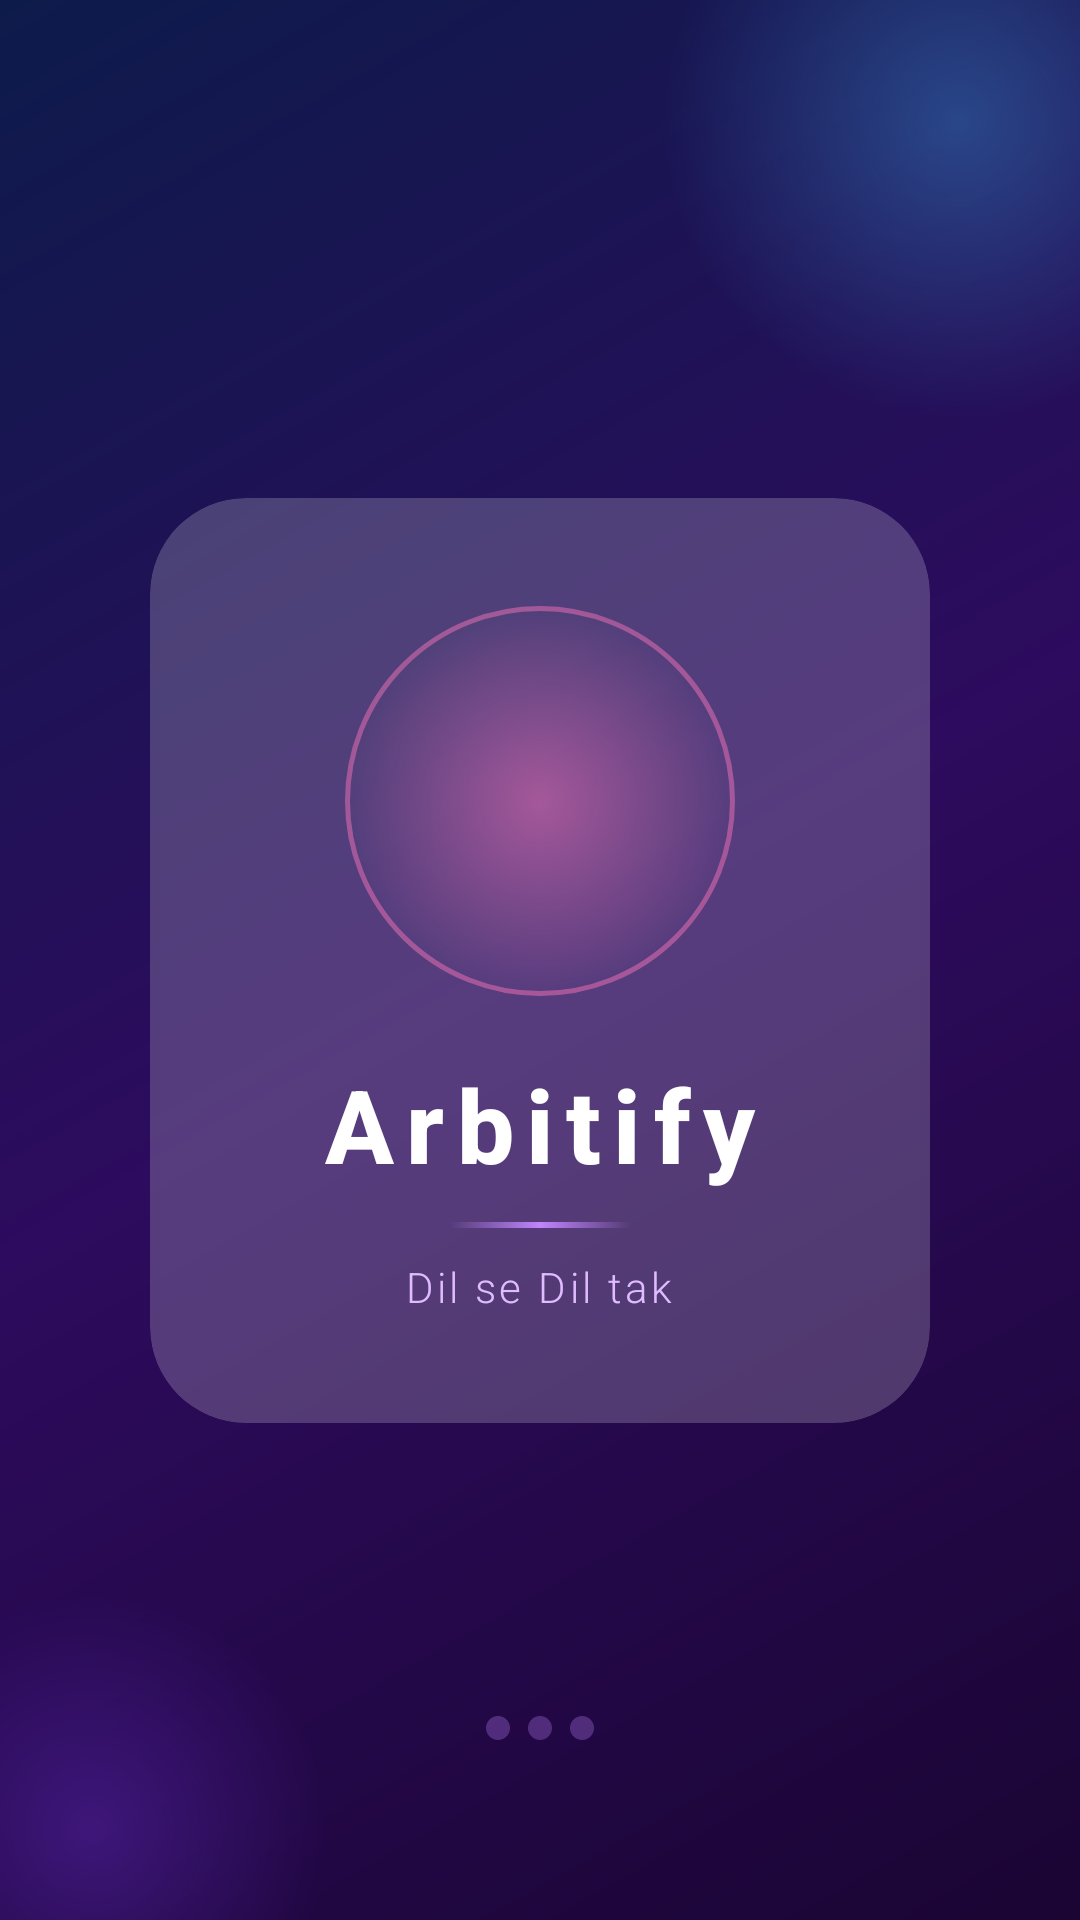

Icon click points for this 1080*1920 phone screenshot, format (x=x, y=y):
dot: (x=498, y=1728), (x=540, y=1728)
